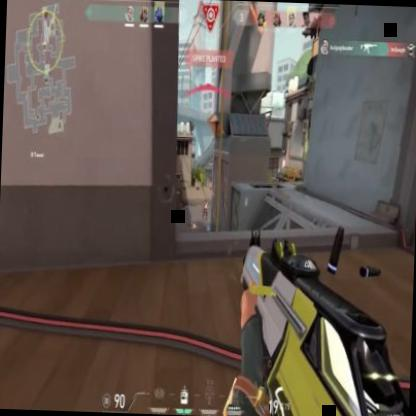enemy: (202, 202, 208, 220)
enemy_head: (206, 202, 208, 206)
